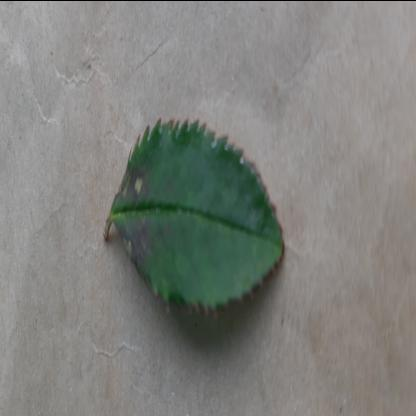downy-mildew: (113, 112, 284, 321)
